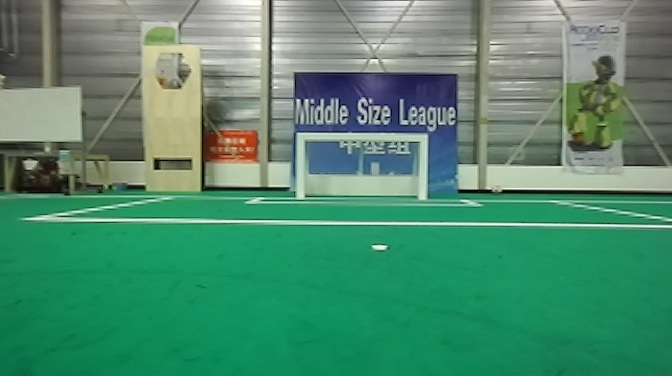ball: (482, 180, 502, 195)
goalpost: (288, 128, 312, 200), (413, 127, 433, 202)
